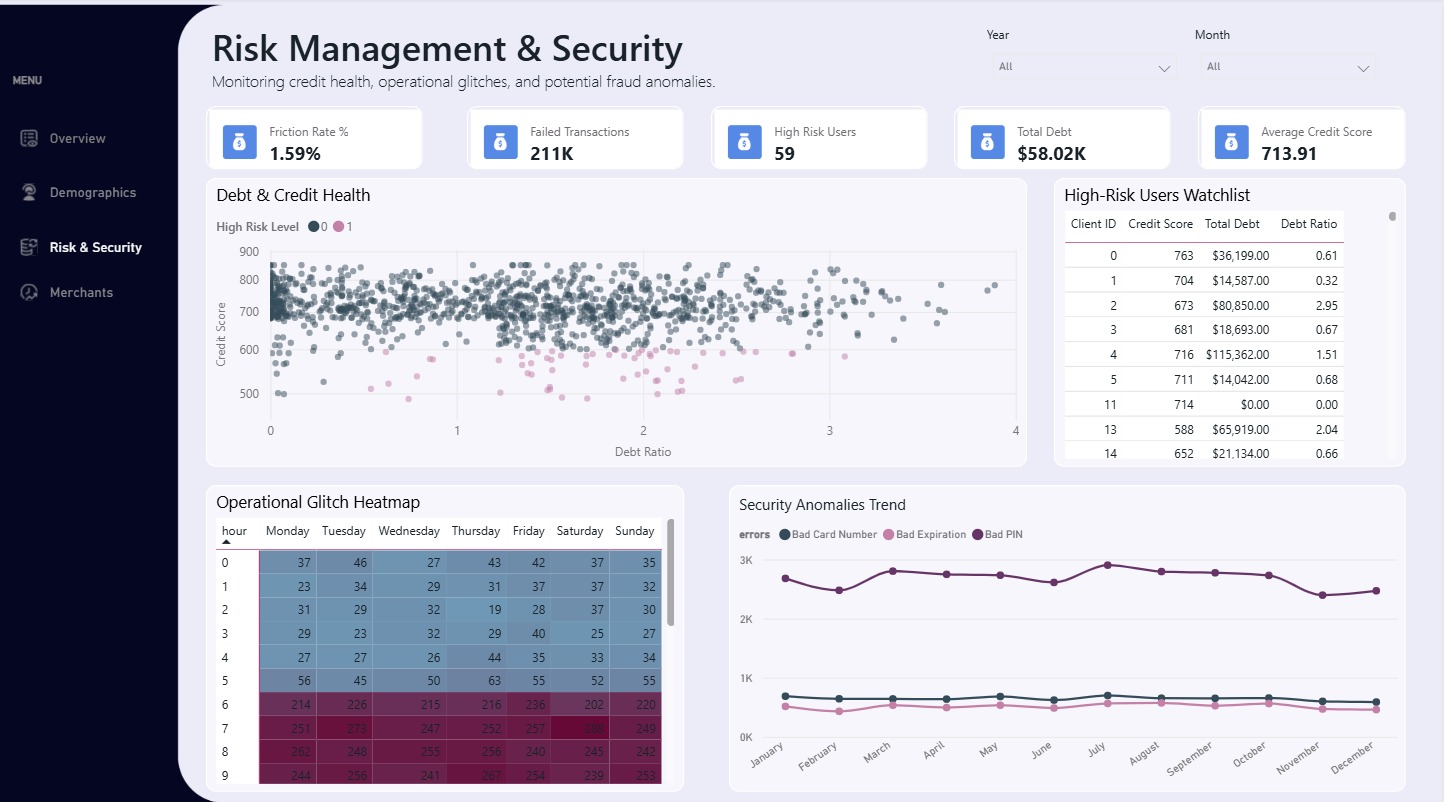

This screenshot's page, from the dashboard's own definition file:
{"tool":"powerbi","page":{"name":"Risk & Security","canvas":[1280,720],"ordinal":2},"visuals":[{"type":"image","box":[0,0,200,720],"z":0},{"type":"textbox","box":[184,16,632,80],"z":1000},{"type":"slicer","title":"Month","fields":{"Values":["clean_credit_behavior.month"]},"box":[1056,24,176,56],"z":2000},{"type":"slicer","title":"Year","fields":{"Values":["clean_credit_behavior.year"]},"box":[872,24,184,56],"z":3000},{"type":"cardVisual","fields":{"Data":["_Key Measures.Friction Rate %"]},"box":[184,96,192,56],"z":4000},{"type":"cardVisual","fields":{"Data":["_Key Measures.Failed Trx"]},"box":[416,96,192,56],"z":5000},{"type":"cardVisual","fields":{"Data":["Avg(clean_credit_behavior.total_debt)"]},"box":[848,96,192,56],"z":6000},{"type":"cardVisual","fields":{"Data":["_Key Measures.High Risk Users"]},"box":[632,96,192,56],"z":7000},{"type":"cardVisual","fields":{"Data":["Avg(clean_credit_behavior.credit_score)"]},"box":[1064,96,184,56],"z":8000},{"type":"scatterChart","title":"Debt & Credit Health","fields":{"X":["Avg(clean_credit_behavior.debt_ratio)"],"Y":["Avg(clean_credit_behavior.credit_score)"],"Series":["clean_credit_behavior.high_risk"],"Category":["clean_credit_behavior.client_id"]},"box":[184,160,728,256],"z":9000},{"type":"lineChart","title":"Security Anomalies Trend","fields":{"Category":["clean_credit_behavior.date.Variation.Date Hierarchy.Month","clean_credit_behavior.date.Variation.Date Hierarchy.Day"],"Y":["_Key Measures.Failed Trx"],"Series":["clean_credit_behavior.errors"]},"box":[648,432,600,272],"z":10000},{"type":"pivotTable","title":"Operational Glitch Heatmap","fields":{"Rows":["clean_credit_behavior.hour","clean_credit_behavior.day_name"],"Columns":["clean_credit_behavior.day_name"],"Values":["_Key Measures.Failed Trx"]},"box":[184,432,424,272],"z":11000},{"type":"tableEx","title":"High-Risk Users Watchlist","fields":{"Values":["clean_credit_behavior.client_id","clean_credit_behavior.credit_score","Avg(clean_credit_behavior.total_debt)","Avg(clean_credit_behavior.debt_ratio)"]},"box":[936,160,312,256],"z":12000},{"type":"actionButton","box":[8,104,144,40],"z":13000},{"type":"actionButton","box":[8,152,144,40],"z":14000},{"type":"actionButton","box":[8,240,144,40],"z":15000},{"type":"actionButton","box":[16,200,144,40],"z":16000},{"type":"textbox","box":[8,56,144,40],"z":17000}]}

Visuals, with their boxes on the page's 1280x720 design canvas (x1, y1, x2, y2). These are canvas units, not pixel positions in the 1444x802 screenshot, which may show the page scaled, cropped or inside an application window:
image: bbox=[0, 0, 200, 720]
textbox: bbox=[184, 16, 816, 96]
"Month" slicer: bbox=[1056, 24, 1232, 80]
"Year" slicer: bbox=[872, 24, 1056, 80]
cardVisual - _Key Measures.Friction Rate %: bbox=[184, 96, 376, 152]
cardVisual - _Key Measures.Failed Trx: bbox=[416, 96, 608, 152]
cardVisual - Avg(clean_credit_behavior.total_debt): bbox=[848, 96, 1040, 152]
cardVisual - _Key Measures.High Risk Users: bbox=[632, 96, 824, 152]
cardVisual - Avg(clean_credit_behavior.credit_score): bbox=[1064, 96, 1248, 152]
"Debt & Credit Health" scatterChart: bbox=[184, 160, 912, 416]
"Security Anomalies Trend" lineChart: bbox=[648, 432, 1248, 704]
"Operational Glitch Heatmap" pivotTable: bbox=[184, 432, 608, 704]
"High-Risk Users Watchlist" tableEx: bbox=[936, 160, 1248, 416]
actionButton: bbox=[8, 104, 152, 144]
actionButton: bbox=[8, 152, 152, 192]
actionButton: bbox=[8, 240, 152, 280]
actionButton: bbox=[16, 200, 160, 240]
textbox: bbox=[8, 56, 152, 96]
